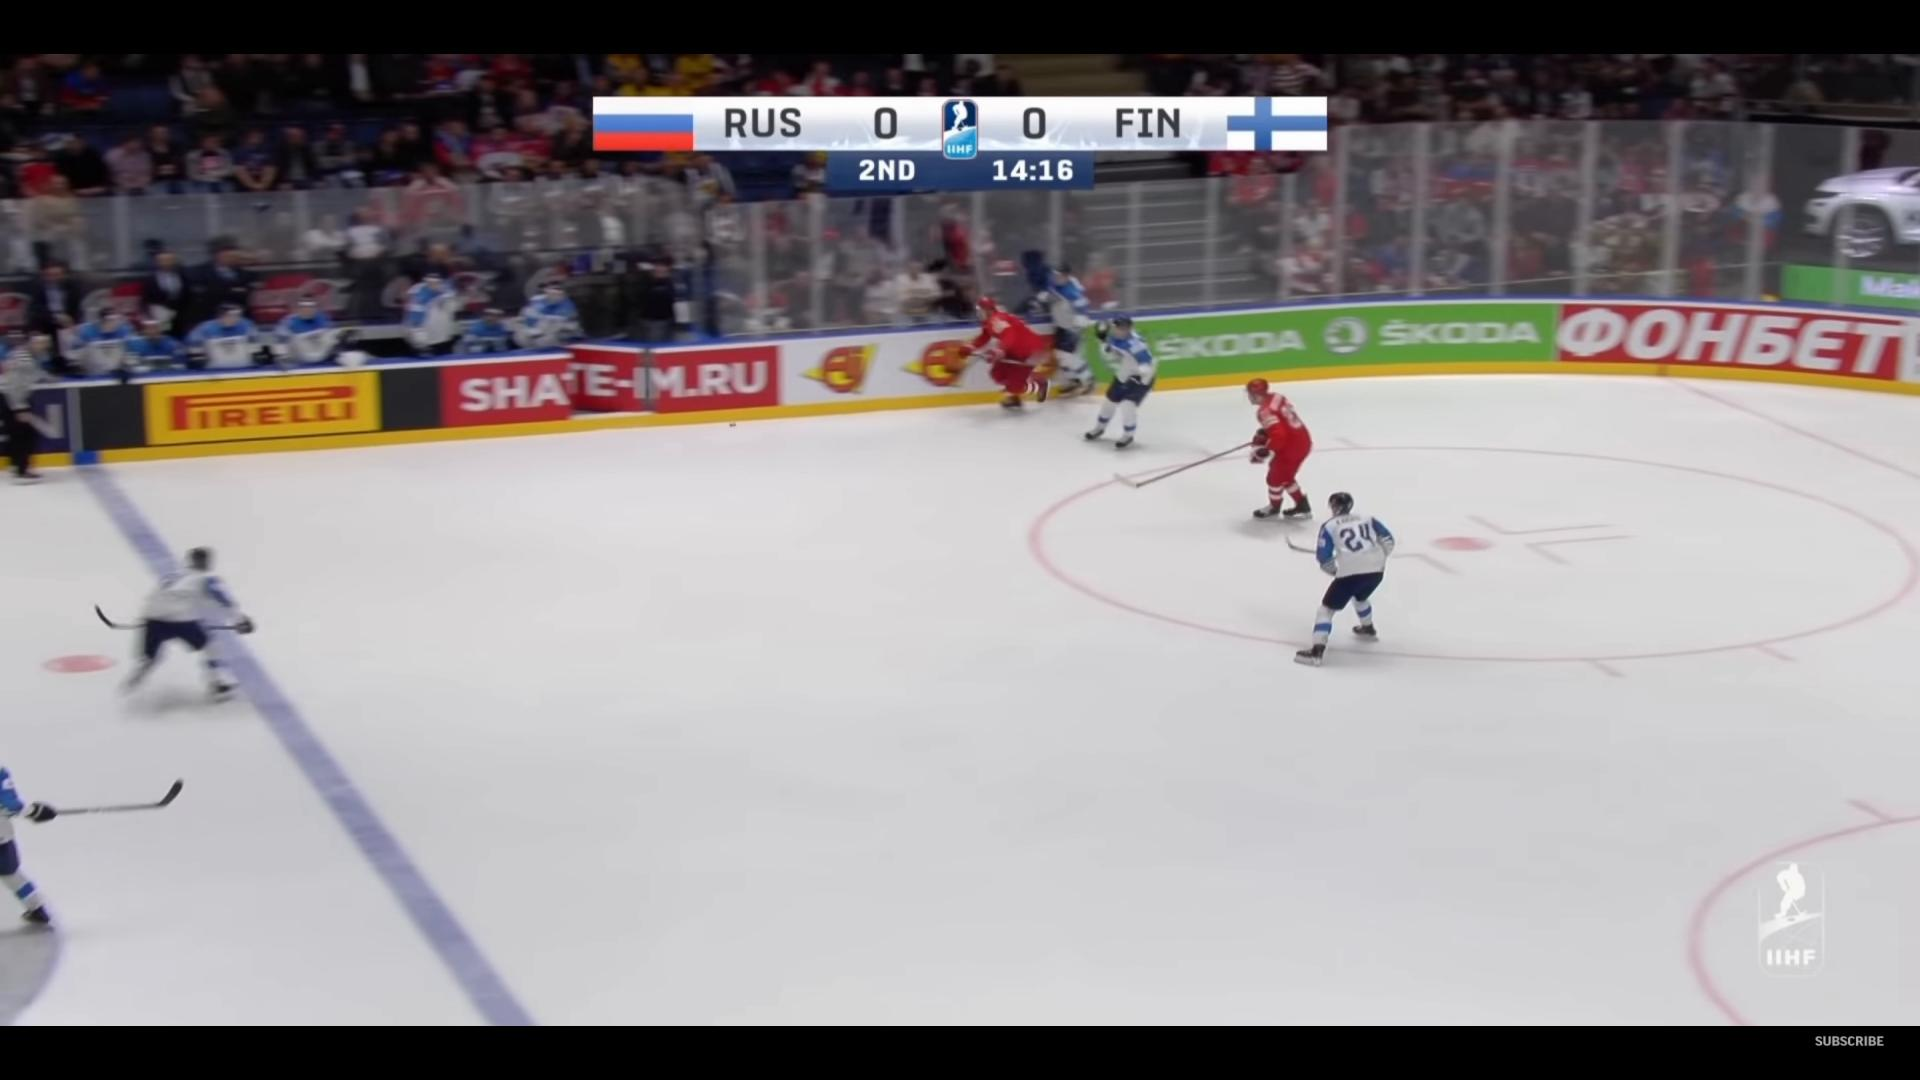puck: (728, 422, 736, 426)
